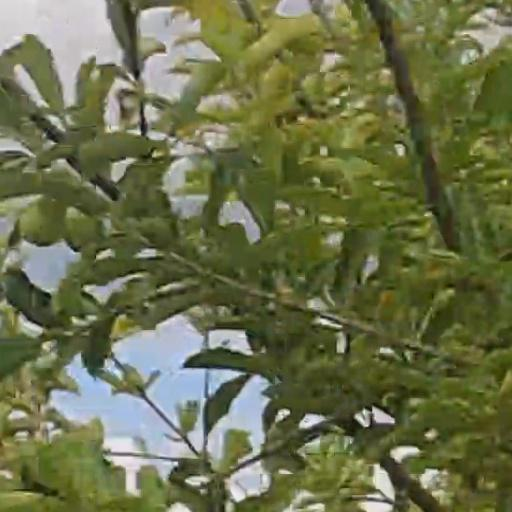acerola_verde: (20, 200, 63, 244), (66, 207, 100, 244)
